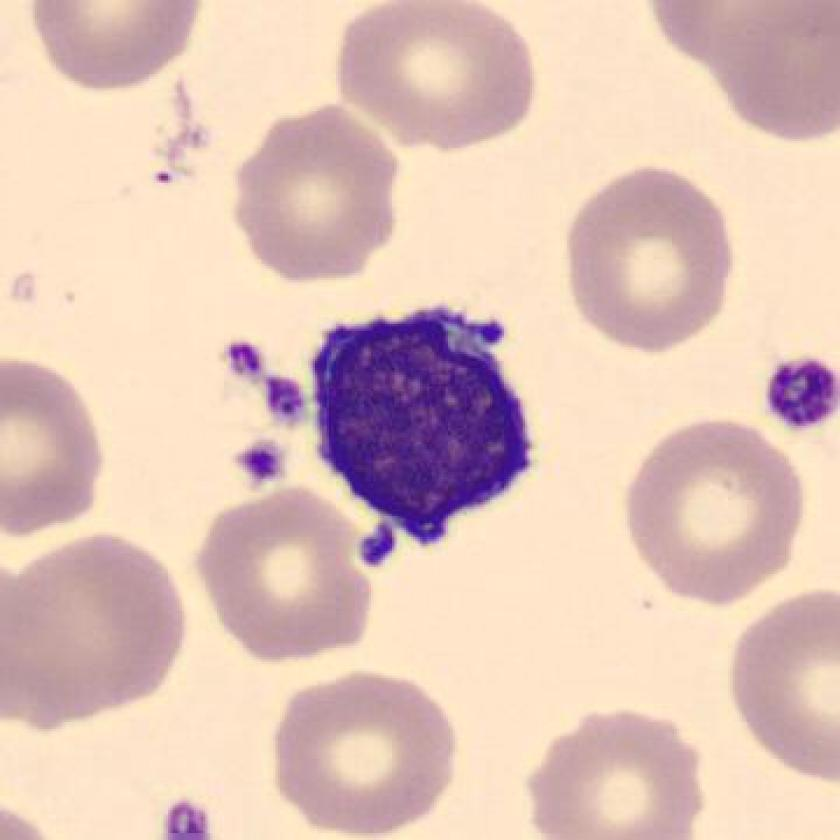lymphocyte: (300, 293, 552, 554)
